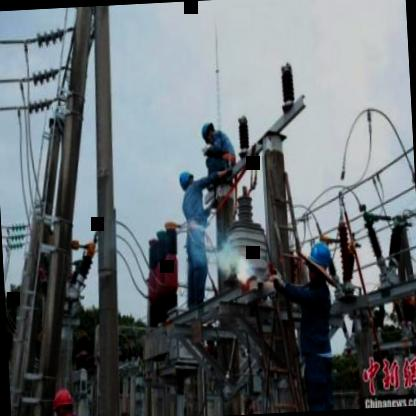helmet: (304, 235, 336, 288), (51, 385, 75, 416), (177, 169, 197, 191), (200, 120, 217, 142)
